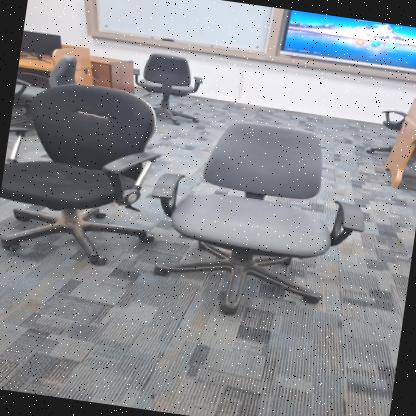chair: (132, 102, 379, 336), (0, 65, 175, 278), (123, 44, 208, 132)
